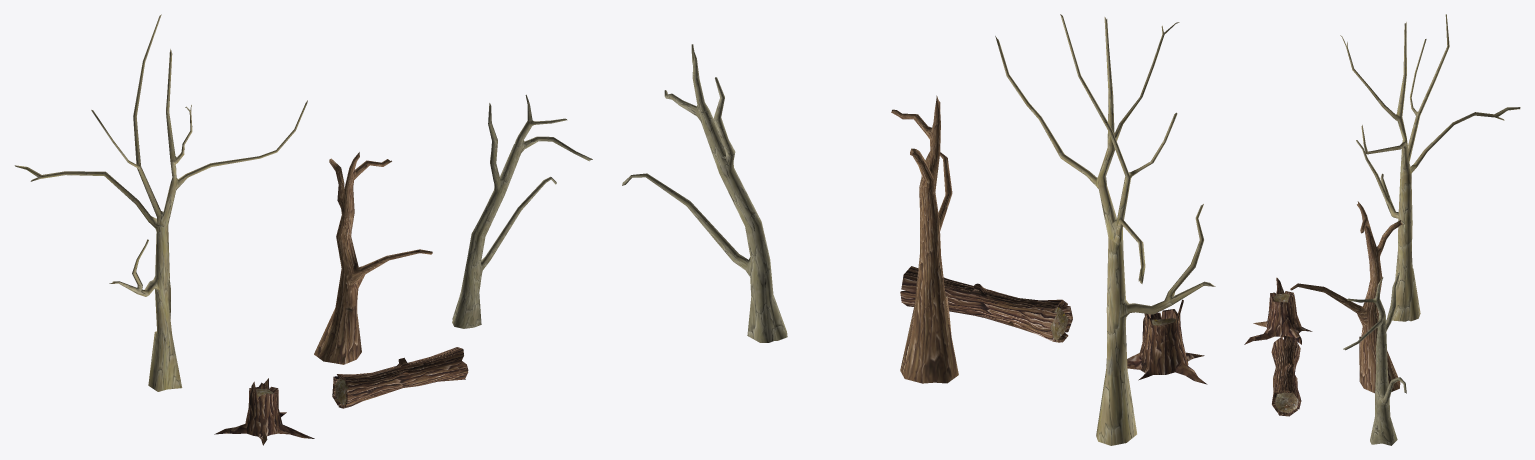
File: Trees_pack.obj
The picture shows the model from 3 angles, left to right: view 1: azimuth 30°, elevation 25°; view 2: azimuth 150°, elevation 25°; view 3: azimuth 270°, elevation 25°; orthographic projection. The views are drawn at different scales.
Visible parts, largest first — view 1: tree_01, tree_02, tree_03, log_01, stamp; view 2: tree_01, tree_02, tree_03, log_01, stamp; view 3: tree_01, tree_02, tree_03, log_01, stamp.
Part boxes in pixels (bbox=[...]): tree_01: bbox=[14, 14, 307, 391]; tree_02: bbox=[314, 152, 432, 364]; tree_03: bbox=[452, 94, 592, 328]; log_01: bbox=[332, 347, 468, 408]; stamp: bbox=[214, 378, 314, 445]; tree_01: bbox=[995, 14, 1215, 445]; tree_02: bbox=[891, 95, 958, 383]; tree_03: bbox=[622, 44, 787, 342]; log_01: bbox=[900, 266, 1072, 342]; stamp: bbox=[1127, 299, 1207, 384]; tree_01: bbox=[1340, 14, 1520, 321]; tree_02: bbox=[1290, 201, 1402, 393]; tree_03: bbox=[1343, 273, 1406, 445]; log_01: bbox=[1271, 335, 1301, 416]; stamp: bbox=[1244, 277, 1312, 344].
Bounding box in the file's own units: 12.72 × 8.92 × 7.14.
